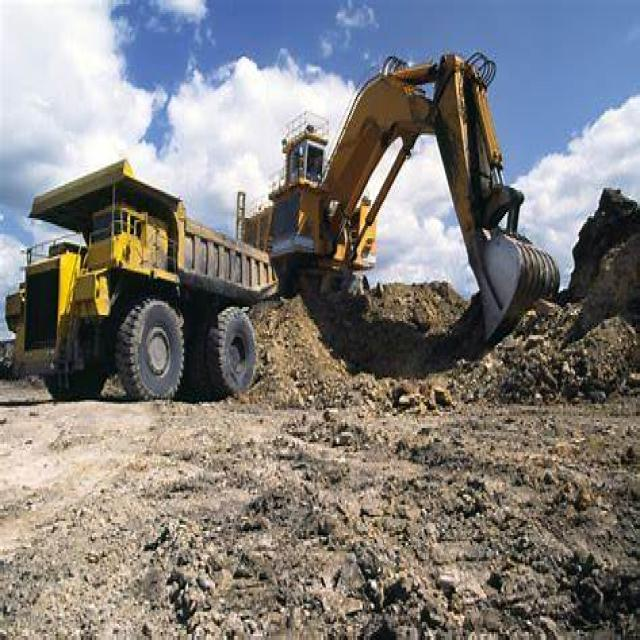dump_truck: (20, 159, 276, 416)
